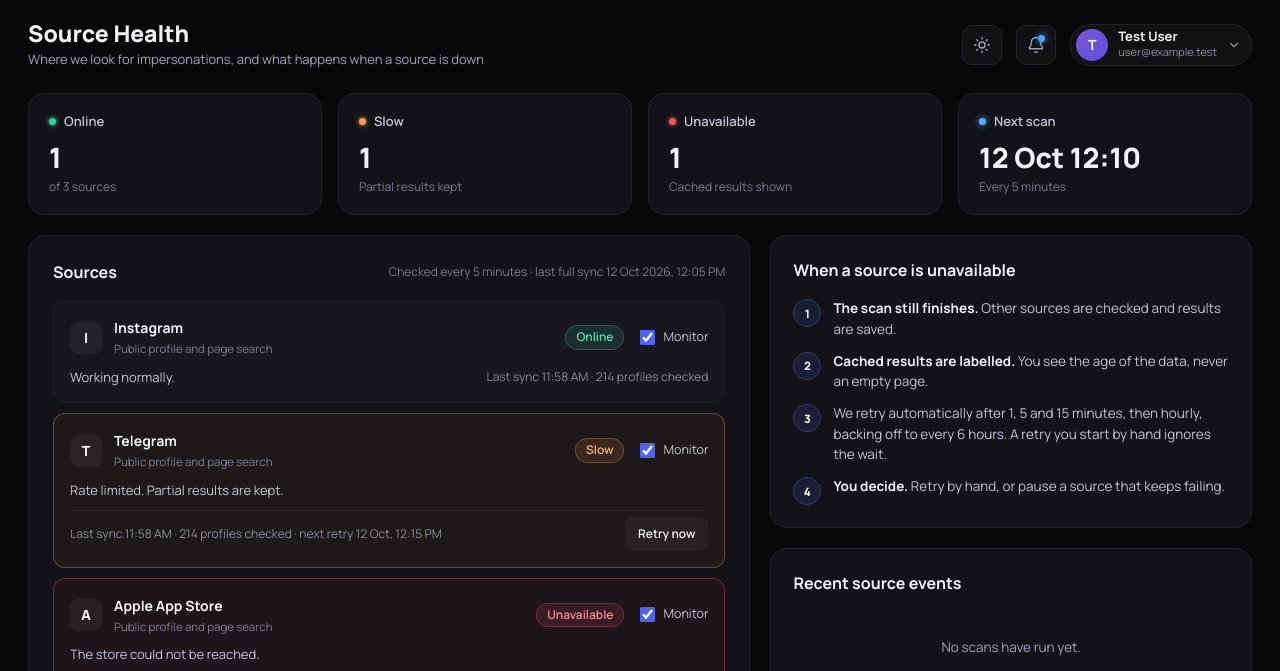
Test case: SourceHealthPage › shows the server message when a retry is refused
The image size is (1280, 671).
Click the button "Retry now" in the row of "· next retry 12 Oct, 12:15 PM": (667, 534) [625,517,708,551]
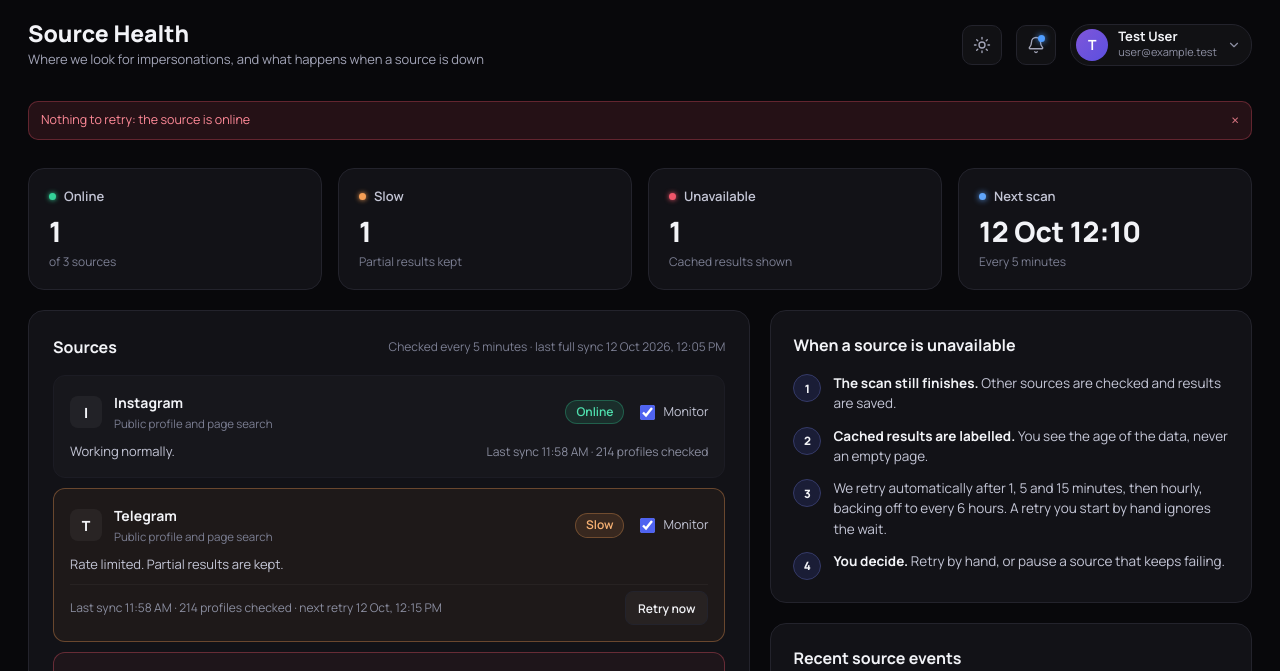
Expected: the message shows "Nothing to retry: the source is online", [41,111,250,128]
